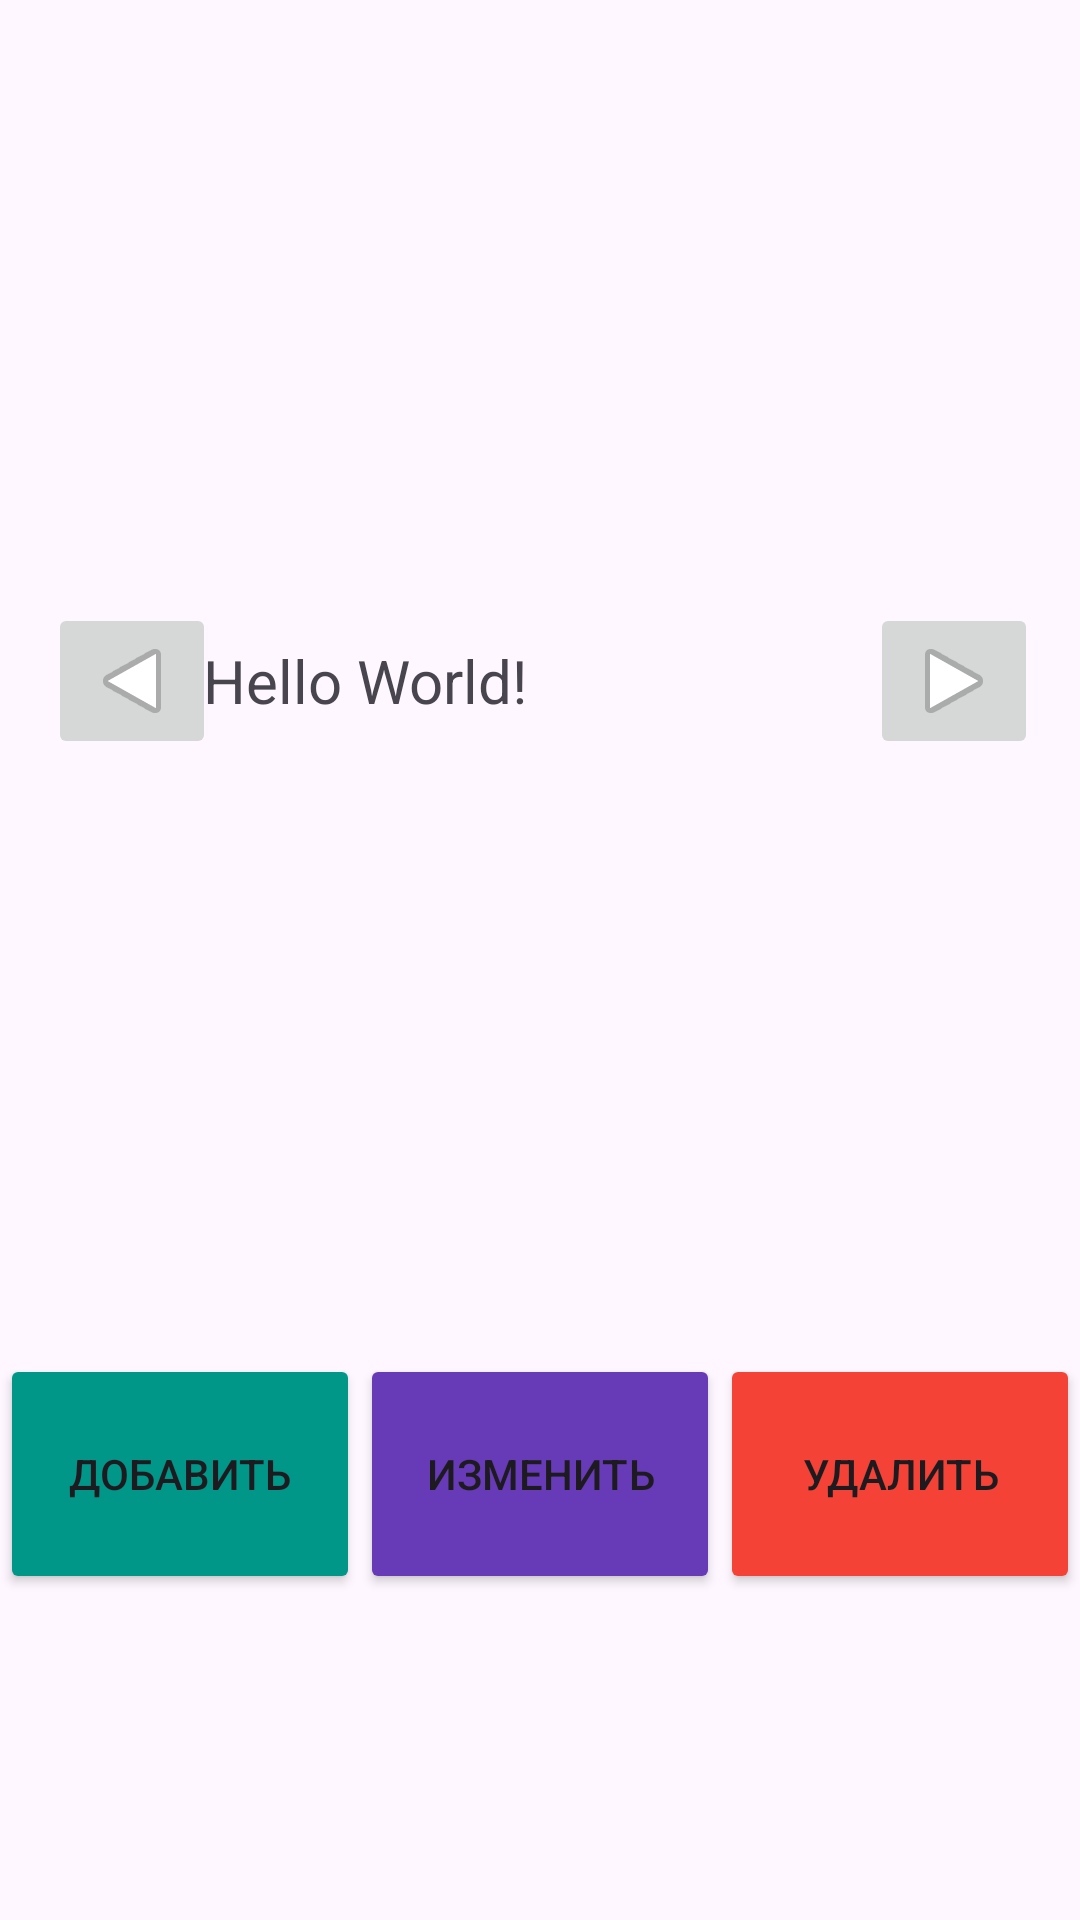

Point at icon controls on the screen. Image size 1080 x 1920, points as [x,y].
Кнопка вперёд: [954,681]
